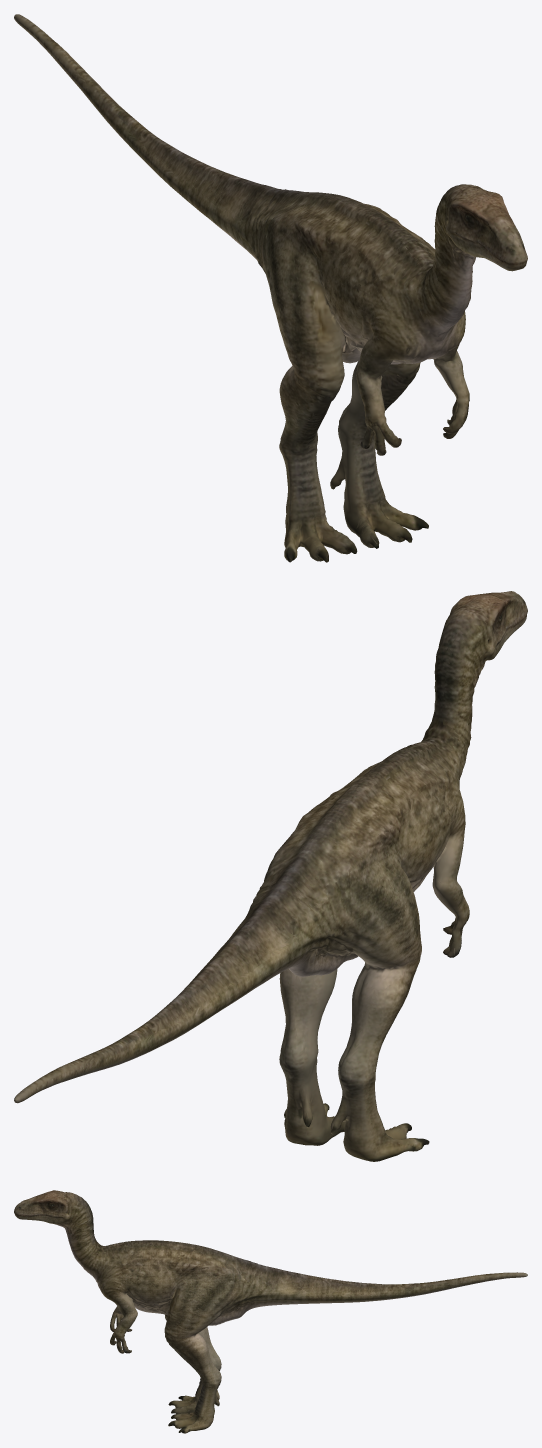
The model's file is panphagia.glb.
3 views of the same model, one above another, from view 1: azimuth 30°, elevation 25°; view 2: azimuth 150°, elevation 25°; view 3: azimuth 270°, elevation 25° (orthographic). The views are drawn at different scales.
Visible parts, largest first — view 1: panphagia_medio; view 2: panphagia_medio; view 3: panphagia_medio.
Part boxes in pixels (left/top/right/bottom): panphagia_medio: left=14, top=14, right=527, bottom=562; panphagia_medio: left=14, top=591, right=527, bottom=1161; panphagia_medio: left=14, top=1190, right=527, bottom=1433.
Size of the model in its own units: 0.2087 by 0.6308 by 1.3.
Materials: 1 (1 with a texture image).
